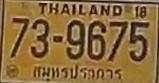3: (30, 18, 49, 57)
5: (128, 21, 148, 61)
6: (87, 20, 105, 59)
7: (107, 20, 127, 60), (10, 17, 29, 57)
9: (66, 19, 84, 58)
SPK: (30, 63, 124, 82)
